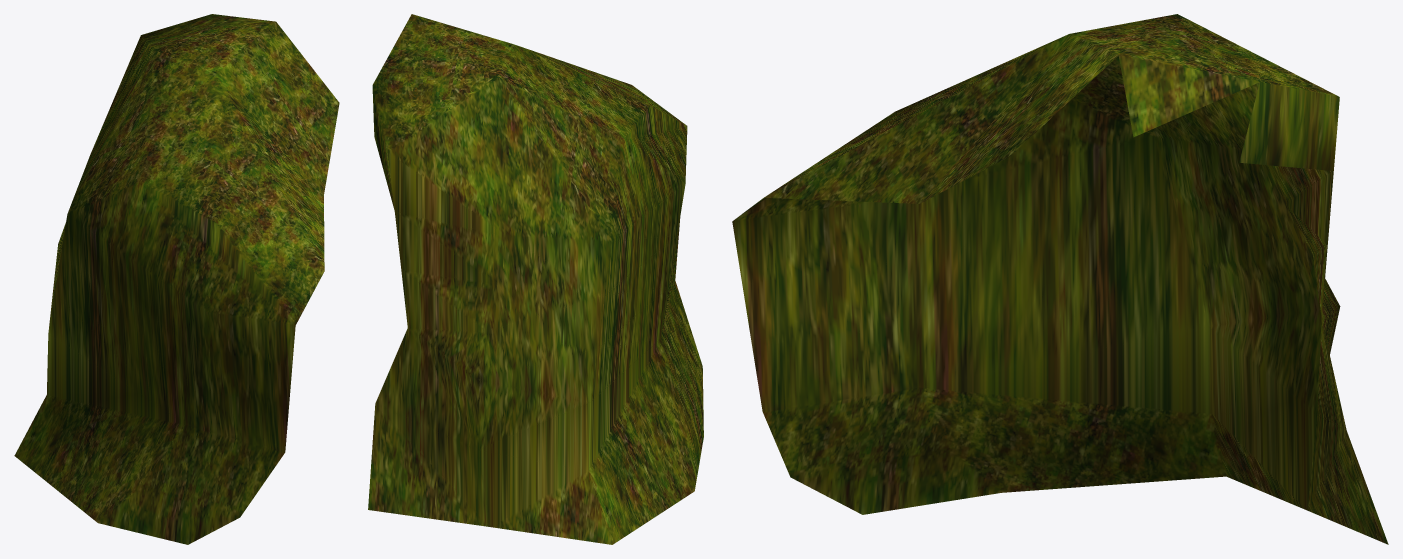
Rendered from TROLLHOLE02_RM_PSURF193.fbx.
The picture shows the model from 3 angles, left to right: view 1: azimuth 30°, elevation 25°; view 2: azimuth 150°, elevation 25°; view 3: azimuth 270°, elevation 25°; orthographic projection. The views are drawn at different scales.
Parts seen in each view (by area): view 1: TROLLHOLE02_RM_PSURF193; view 2: TROLLHOLE02_RM_PSURF193; view 3: TROLLHOLE02_RM_PSURF193.
Boxes of the visible parts, x1,y1,x2,y2 form: TROLLHOLE02_RM_PSURF193: (14,14,339,544); TROLLHOLE02_RM_PSURF193: (368,14,703,544); TROLLHOLE02_RM_PSURF193: (732,14,1388,544).
Size of the model in its own units: 32978 by 52931 by 53505.
Materials: 1 (1 with a texture image).
